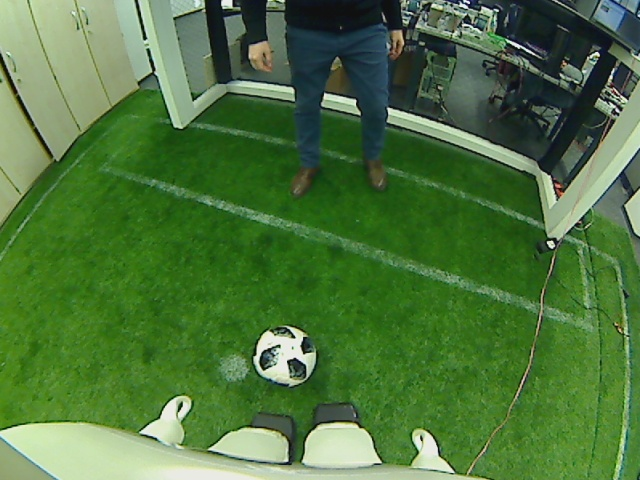ball: (251, 324, 316, 387)
